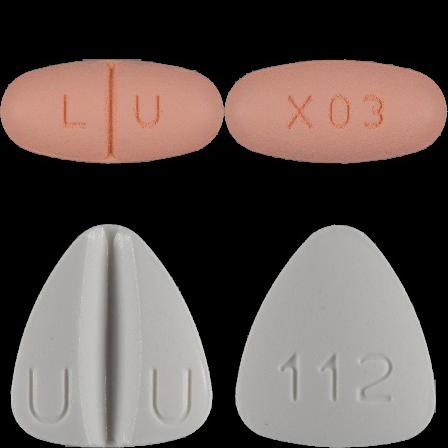33261-646: (0, 0, 224, 224)
